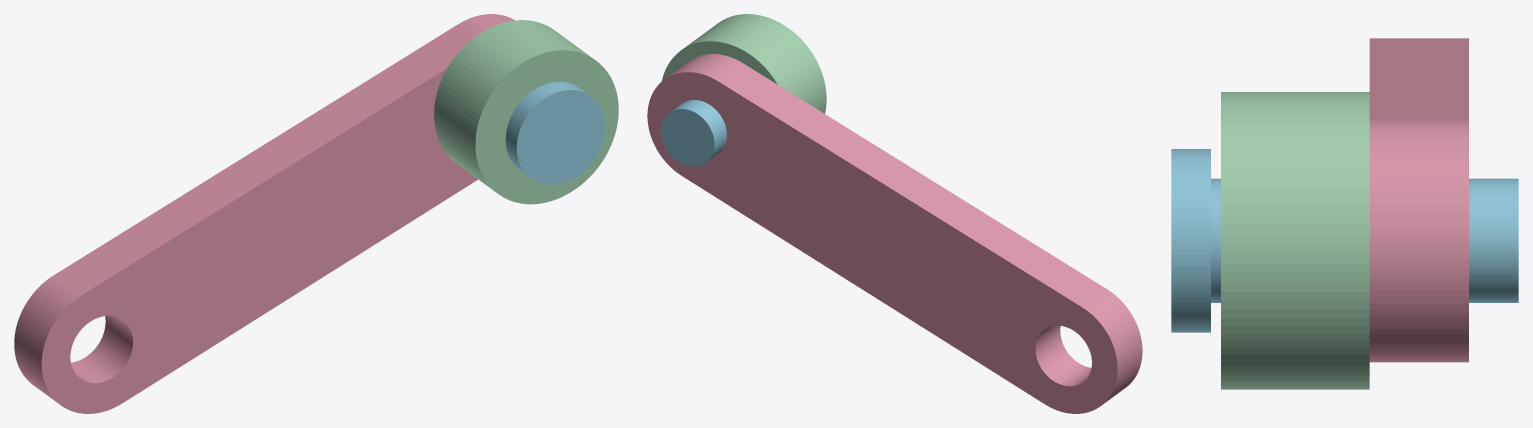
File: roller_follower_demo.glb
3 renders of one model, left to right at view 1: azimuth 30°, elevation 25°; view 2: azimuth 150°, elevation 25°; view 3: azimuth 270°, elevation 25°, orthographic. The views are drawn at different scales.
Visible parts, largest first — view 1: arm, roller, pin; view 2: arm, roller, pin; view 3: roller, arm, pin.
Part boxes in pixels (<box>): arm: <box>14,14,514,413</box>; roller: <box>434,20,618,204</box>; pin: <box>505,82,604,184</box>; arm: <box>647,54,1142,413</box>; roller: <box>662,14,826,113</box>; pin: <box>660,100,726,166</box>; roller: <box>1221,92,1369,389</box>; arm: <box>1369,38,1468,362</box>; pin: <box>1171,149,1518,332</box>.
Bounding box in the file's own units: 44.85 × 23.34 × 14.
